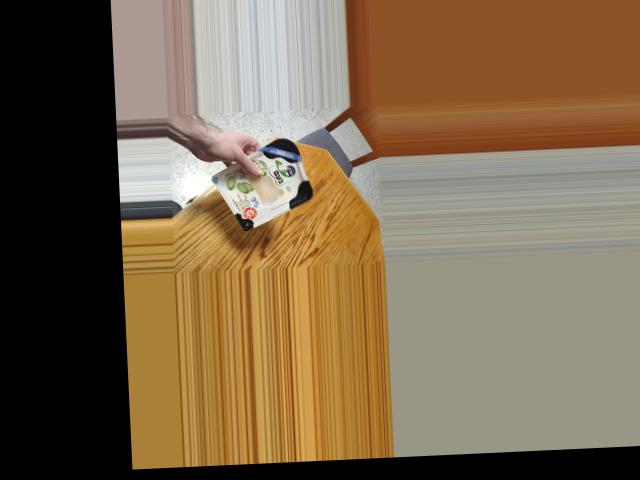cheese: (219, 131, 314, 226)
